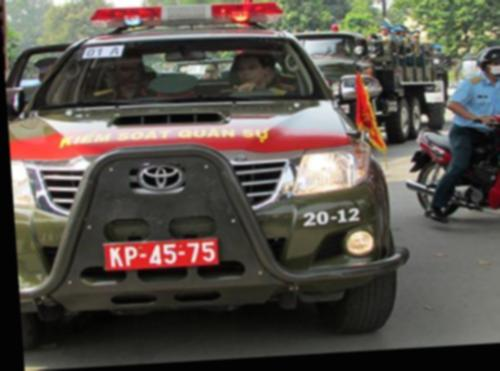License_Plate: (102, 236, 222, 274)
